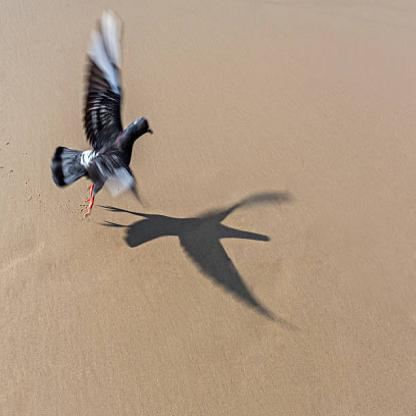Flying Rat: (34, 12, 151, 225)
